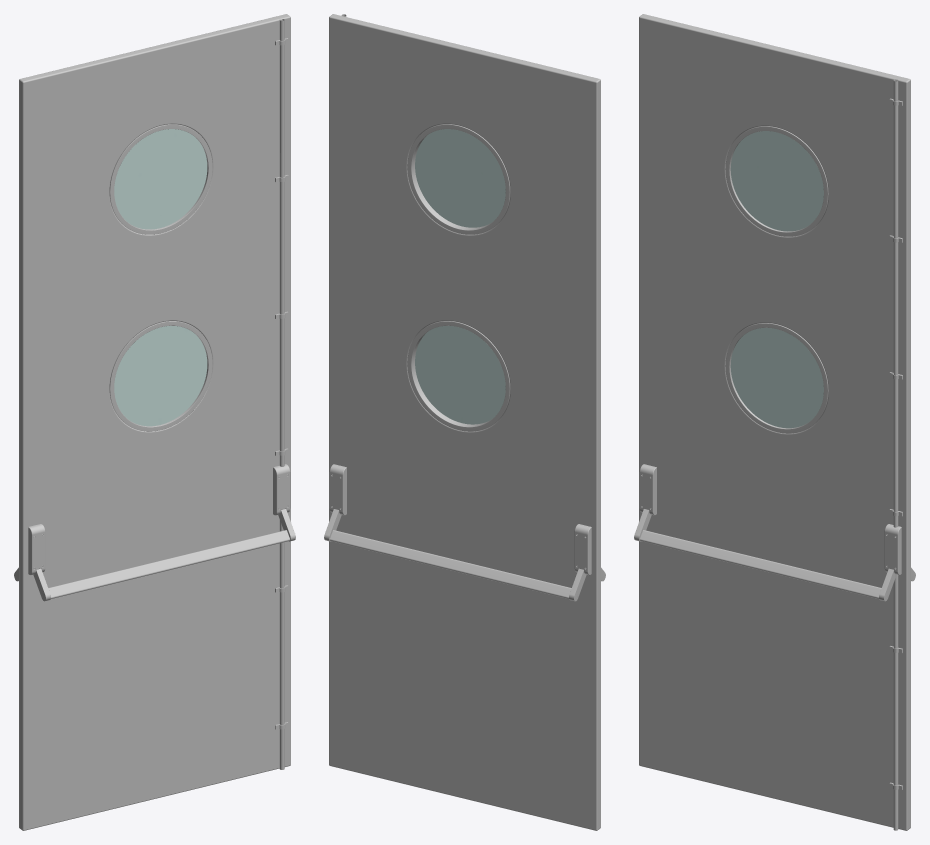
The model's file is SM_ArcadeDoors_Left_01a.fbx.
3 views of the same model, side by side, from view 1: azimuth 30°, elevation 25°; view 2: azimuth 150°, elevation 25°; view 3: azimuth 330°, elevation 25° (orthographic).
Parts seen in each view (by area): view 1: SM_ArcadeDoors_Left_01a_LOD0; view 2: SM_ArcadeDoors_Left_01a_LOD0; view 3: SM_ArcadeDoors_Left_01a_LOD0.
Part boxes in pixels (<box>): SM_ArcadeDoors_Left_01a_LOD0: <box>14,14,295,830</box>; SM_ArcadeDoors_Left_01a_LOD0: <box>324,14,605,830</box>; SM_ArcadeDoors_Left_01a_LOD0: <box>634,14,915,830</box>.
Size of the model in its own units: 105 by 21.58 by 280.
3 materials, 1 textured.
